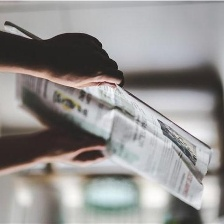news_paper: (0, 18, 215, 212)
